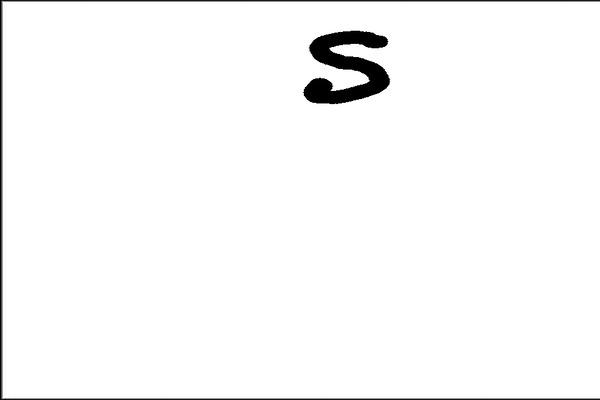S: (299, 22, 395, 114)
